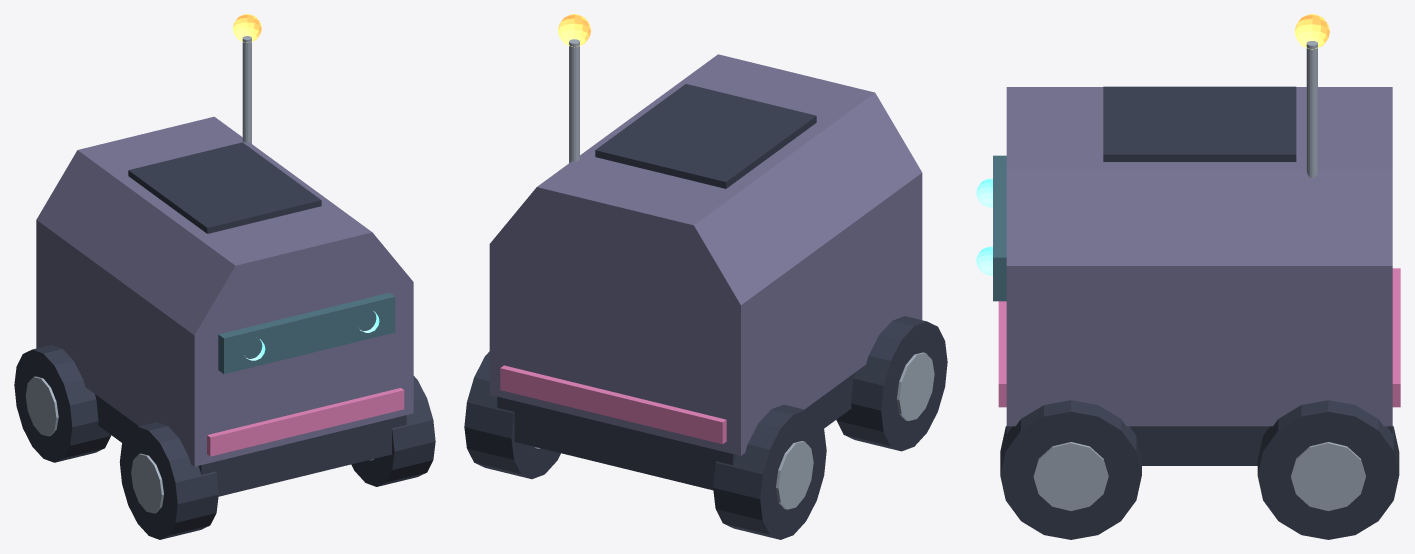
The model's file is neon-dispatch-autonomous-delivery-pod__174.glb.
3 views of the same model, side by side, from view 1: azimuth 30°, elevation 25°; view 2: azimuth 150°, elevation 25°; view 3: azimuth 270°, elevation 25° (orthographic). The views are drawn at different scales.
Parts seen in each view (by area): view 1: shell, dark, glass, accent, metal, warm; view 2: shell, dark, accent, metal, warm; view 3: shell, dark, metal, accent, glass, warm, light.
Boxes of the visible parts, bbox=[...] form: shell: bbox=[36, 116, 413, 466]; dark: bbox=[14, 142, 435, 539]; glass: bbox=[218, 292, 395, 374]; accent: bbox=[207, 388, 404, 456]; metal: bbox=[25, 36, 373, 513]; warm: bbox=[233, 14, 261, 42]; shell: bbox=[489, 54, 922, 455]; dark: bbox=[464, 84, 947, 539]; accent: bbox=[500, 365, 726, 444]; metal: bbox=[535, 39, 934, 509]; warm: bbox=[558, 14, 590, 47]; shell: bbox=[1006, 87, 1392, 426]; dark: bbox=[1000, 86, 1399, 539]; metal: bbox=[1033, 41, 1365, 510]; accent: bbox=[998, 268, 1400, 407]; glass: bbox=[993, 155, 1006, 301]; warm: bbox=[1294, 14, 1329, 49]; light: bbox=[976, 178, 992, 275].
Bounding box in the file's own units: 1.15 × 1.67 × 1.32.
